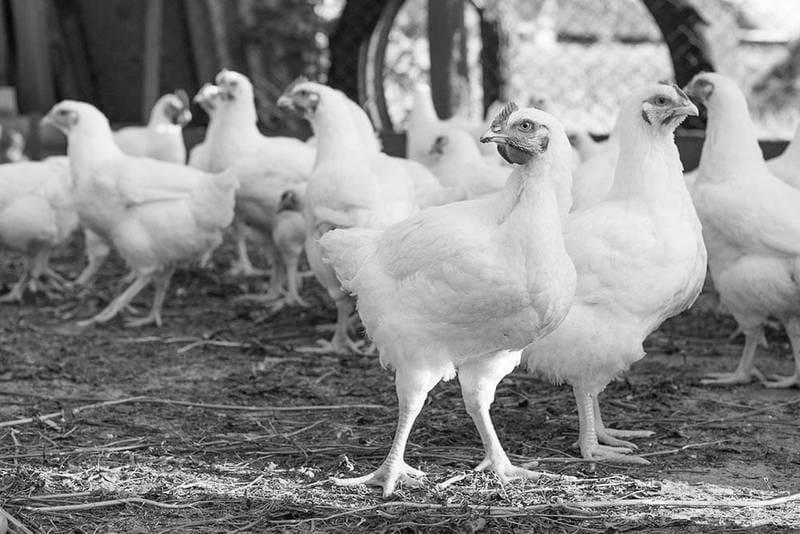Healthy: (302, 94, 577, 493), (552, 62, 703, 473)
